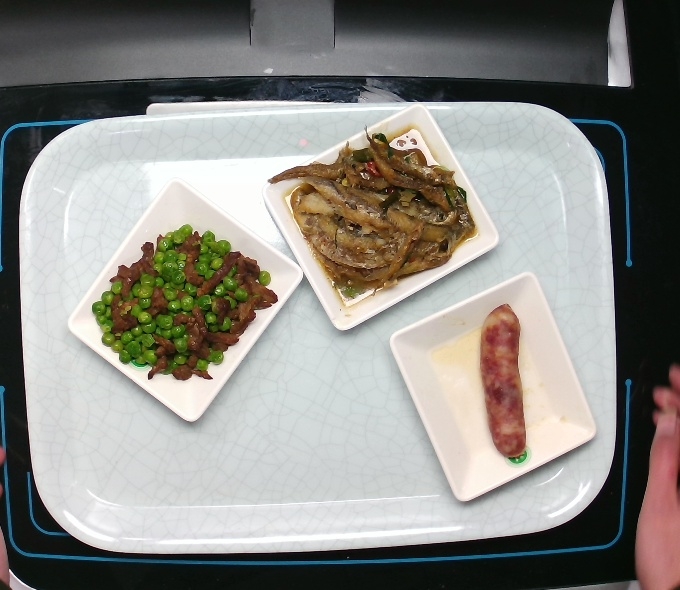wcq-CanDouNiuRou: (89, 217, 281, 387)
wcq-XiangChang: (477, 301, 532, 461)
wcq-XiaoJiYu: (261, 123, 481, 304)
